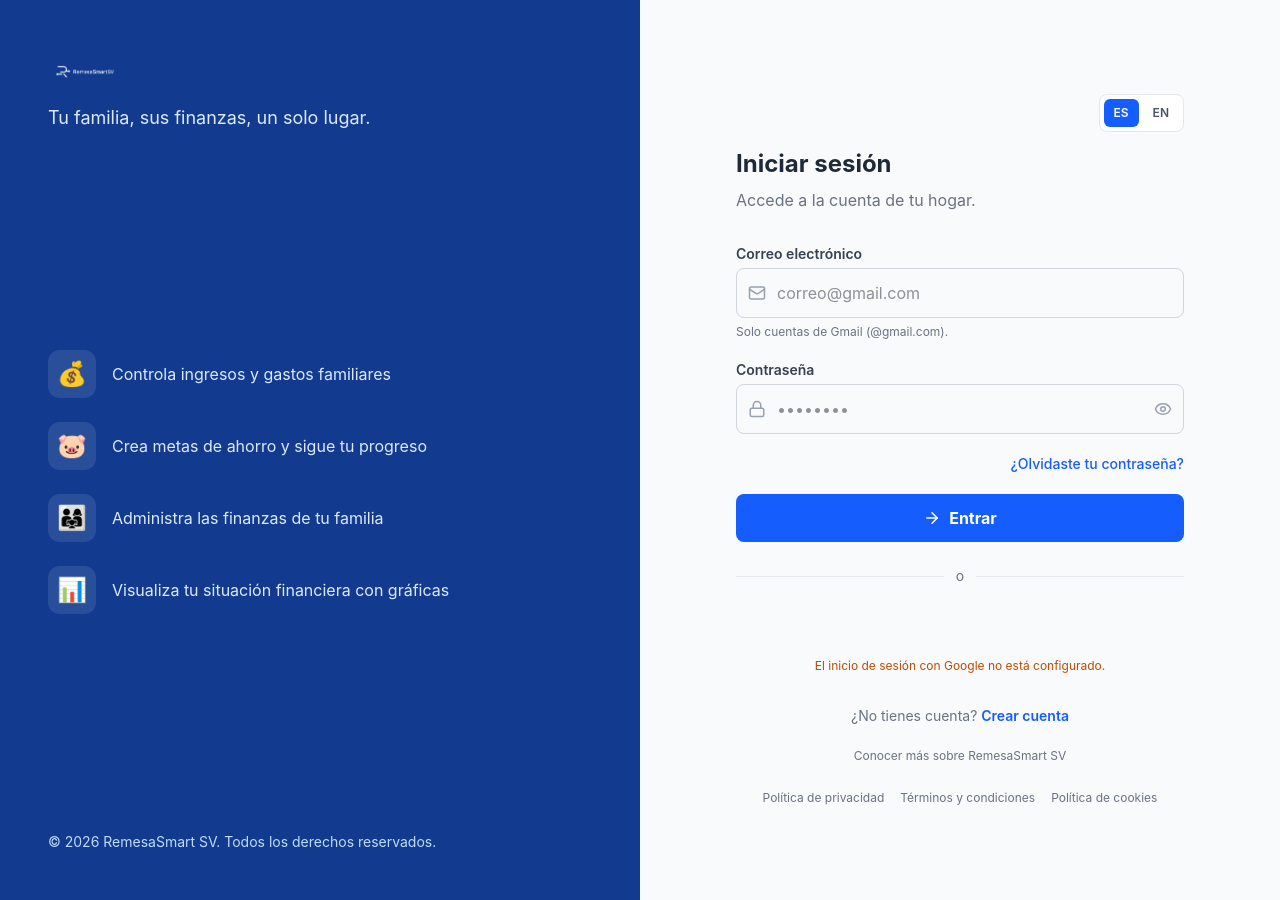
Test: Login — olvidé mi contraseña › vuelve al formulario de login con el botón Volver
Click the button "¿Olvidaste tu contraseña?": (1097, 464) [1010,454,1184,474]
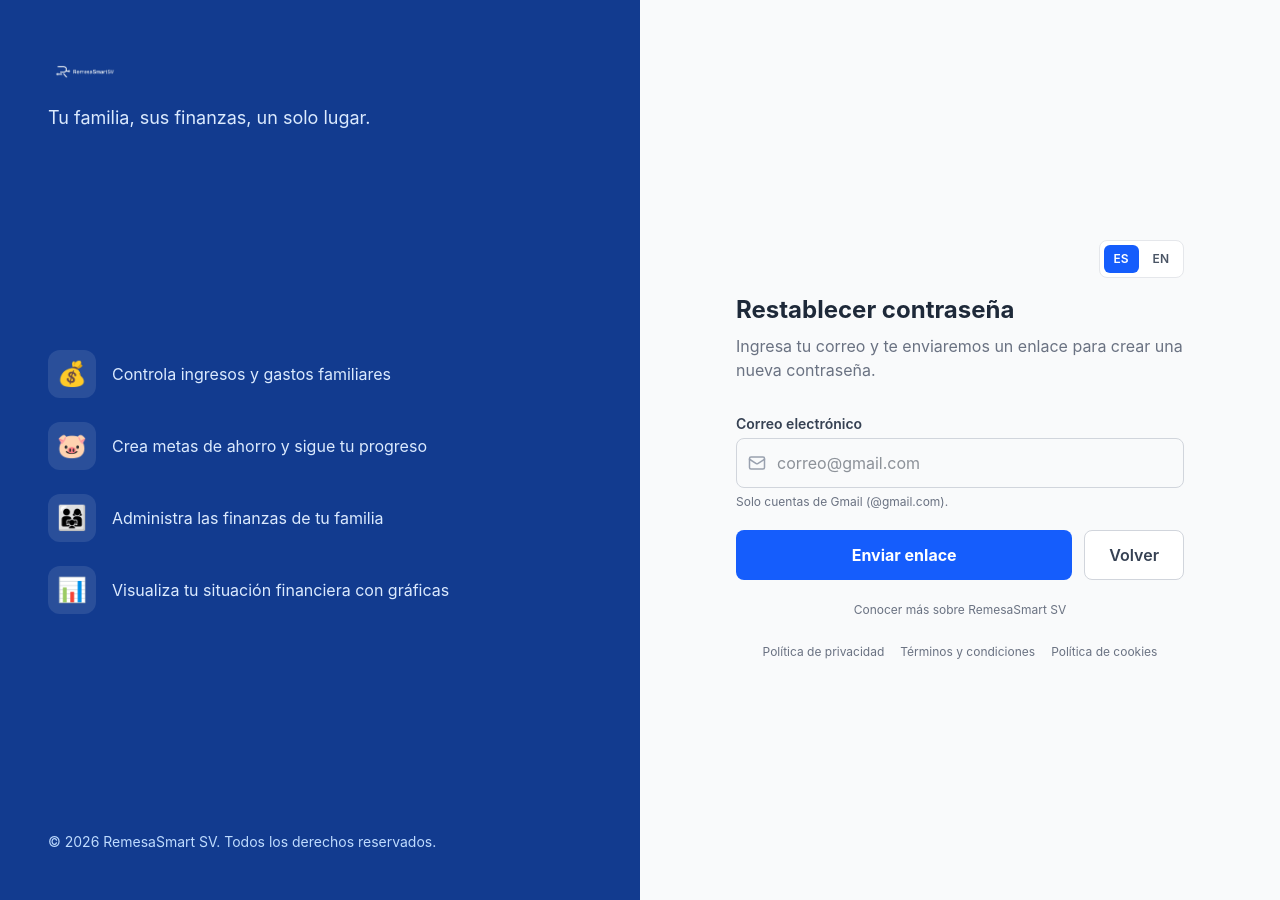
expect the field labelled "Correo electrónico" is shown: met, box [736,438,1184,488]
Click the button "Volver": (1134, 555) [1084,530,1184,580]
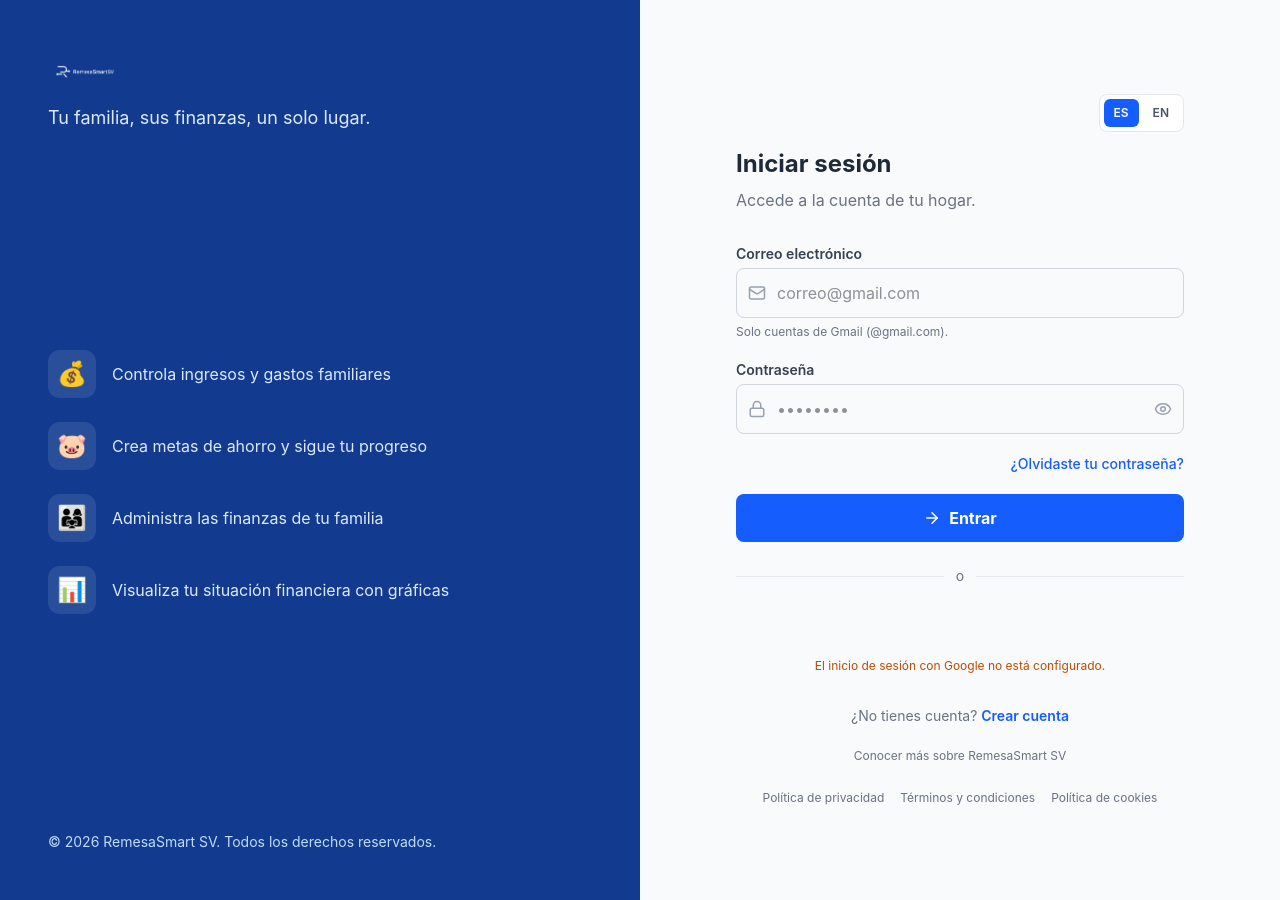
expect the field labelled "Correo electrónico" is shown: met, box [736,268,1184,318]
expect the password field labelled "Contraseña" is shown: met, box [736,384,1184,434]
expect the button "Enviar enlace" is gone: met
